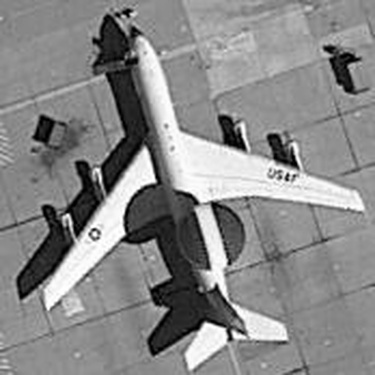airplane: (28, 20, 367, 373)
